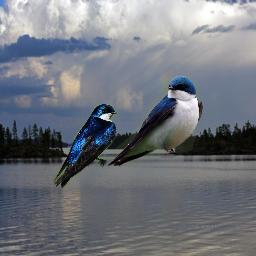Swallow: (107, 75, 203, 167), (52, 104, 118, 188)
